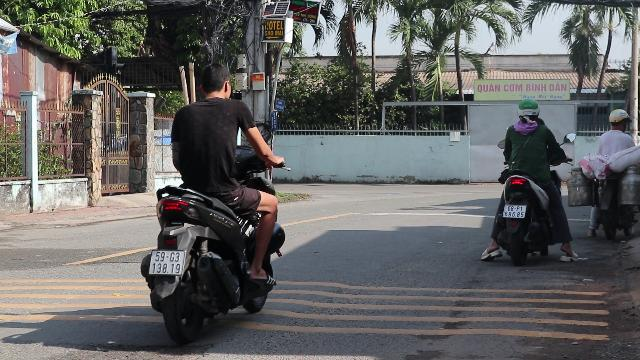helmet: (516, 96, 540, 121), (607, 108, 629, 130)
licenseplate: (149, 250, 183, 274), (503, 204, 525, 217)
motorcyclist: (138, 62, 290, 342), (486, 96, 572, 264), (588, 107, 640, 239)
nohelmet: (195, 62, 232, 100)
